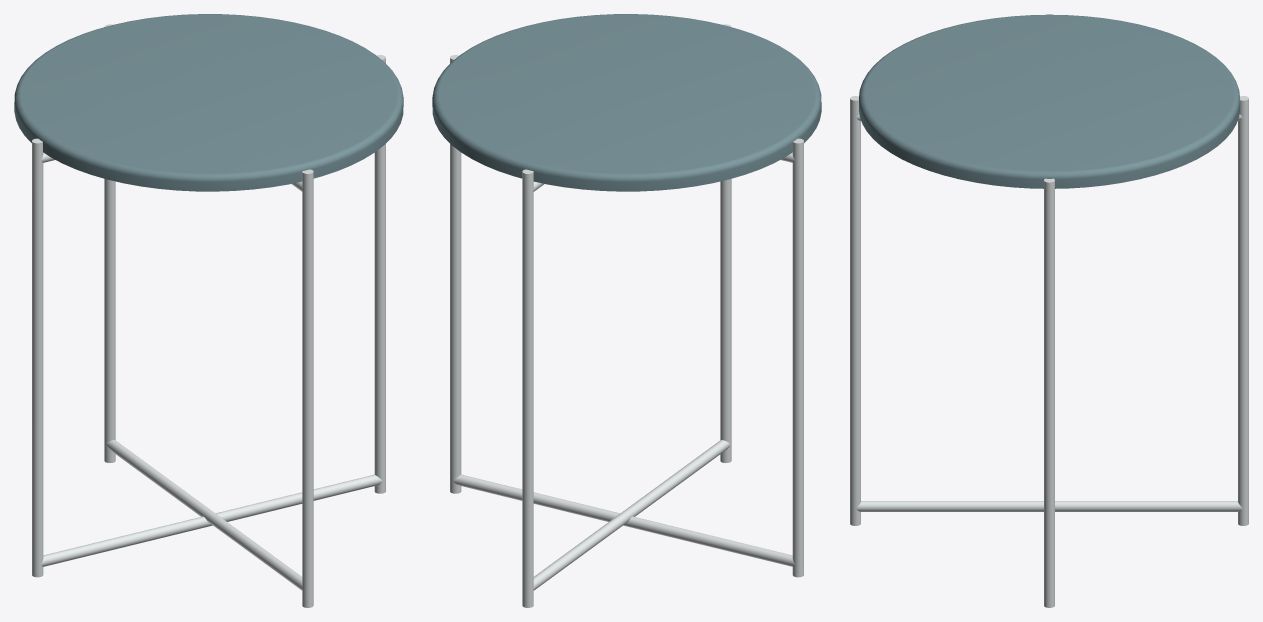
3 renders of one model, left to right at view 1: azimuth 30°, elevation 25°; view 2: azimuth 150°, elevation 25°; view 3: azimuth 270°, elevation 25°, orthographic. The views are drawn at different scales.
Visible parts, largest first — view 1: top, upright.002, upright.001, upright, stretcher, upright.003, cross_stretcher; view 2: top, upright.003, upright.001, upright, stretcher, upright.002, cross_stretcher; view 3: top, upright, upright.002, upright.003, cross_stretcher.
Boxes of the visible parts, x1,y1,x2,y2 form: top: (14,14,403,191); upright.002: (302,169,313,607); upright.001: (32,138,43,577); upright: (374,55,385,493); stretcher: (40,474,382,566); upright.003: (104,24,115,462); cross_stretcher: (105,440,302,590); top: (432,14,821,191); upright.003: (522,169,533,607); upright.001: (792,138,803,577); upright: (450,55,461,493); stretcher: (453,474,795,566); upright.002: (720,24,731,462); cross_stretcher: (533,440,730,590); top: (859,14,1239,188); upright: (1044,178,1054,607); upright.002: (850,96,860,525); upright.003: (1238,96,1248,525); cross_stretcher: (856,501,1242,511).
Bounding box in the file's own units: 0.504 × 0.6 × 0.504.
